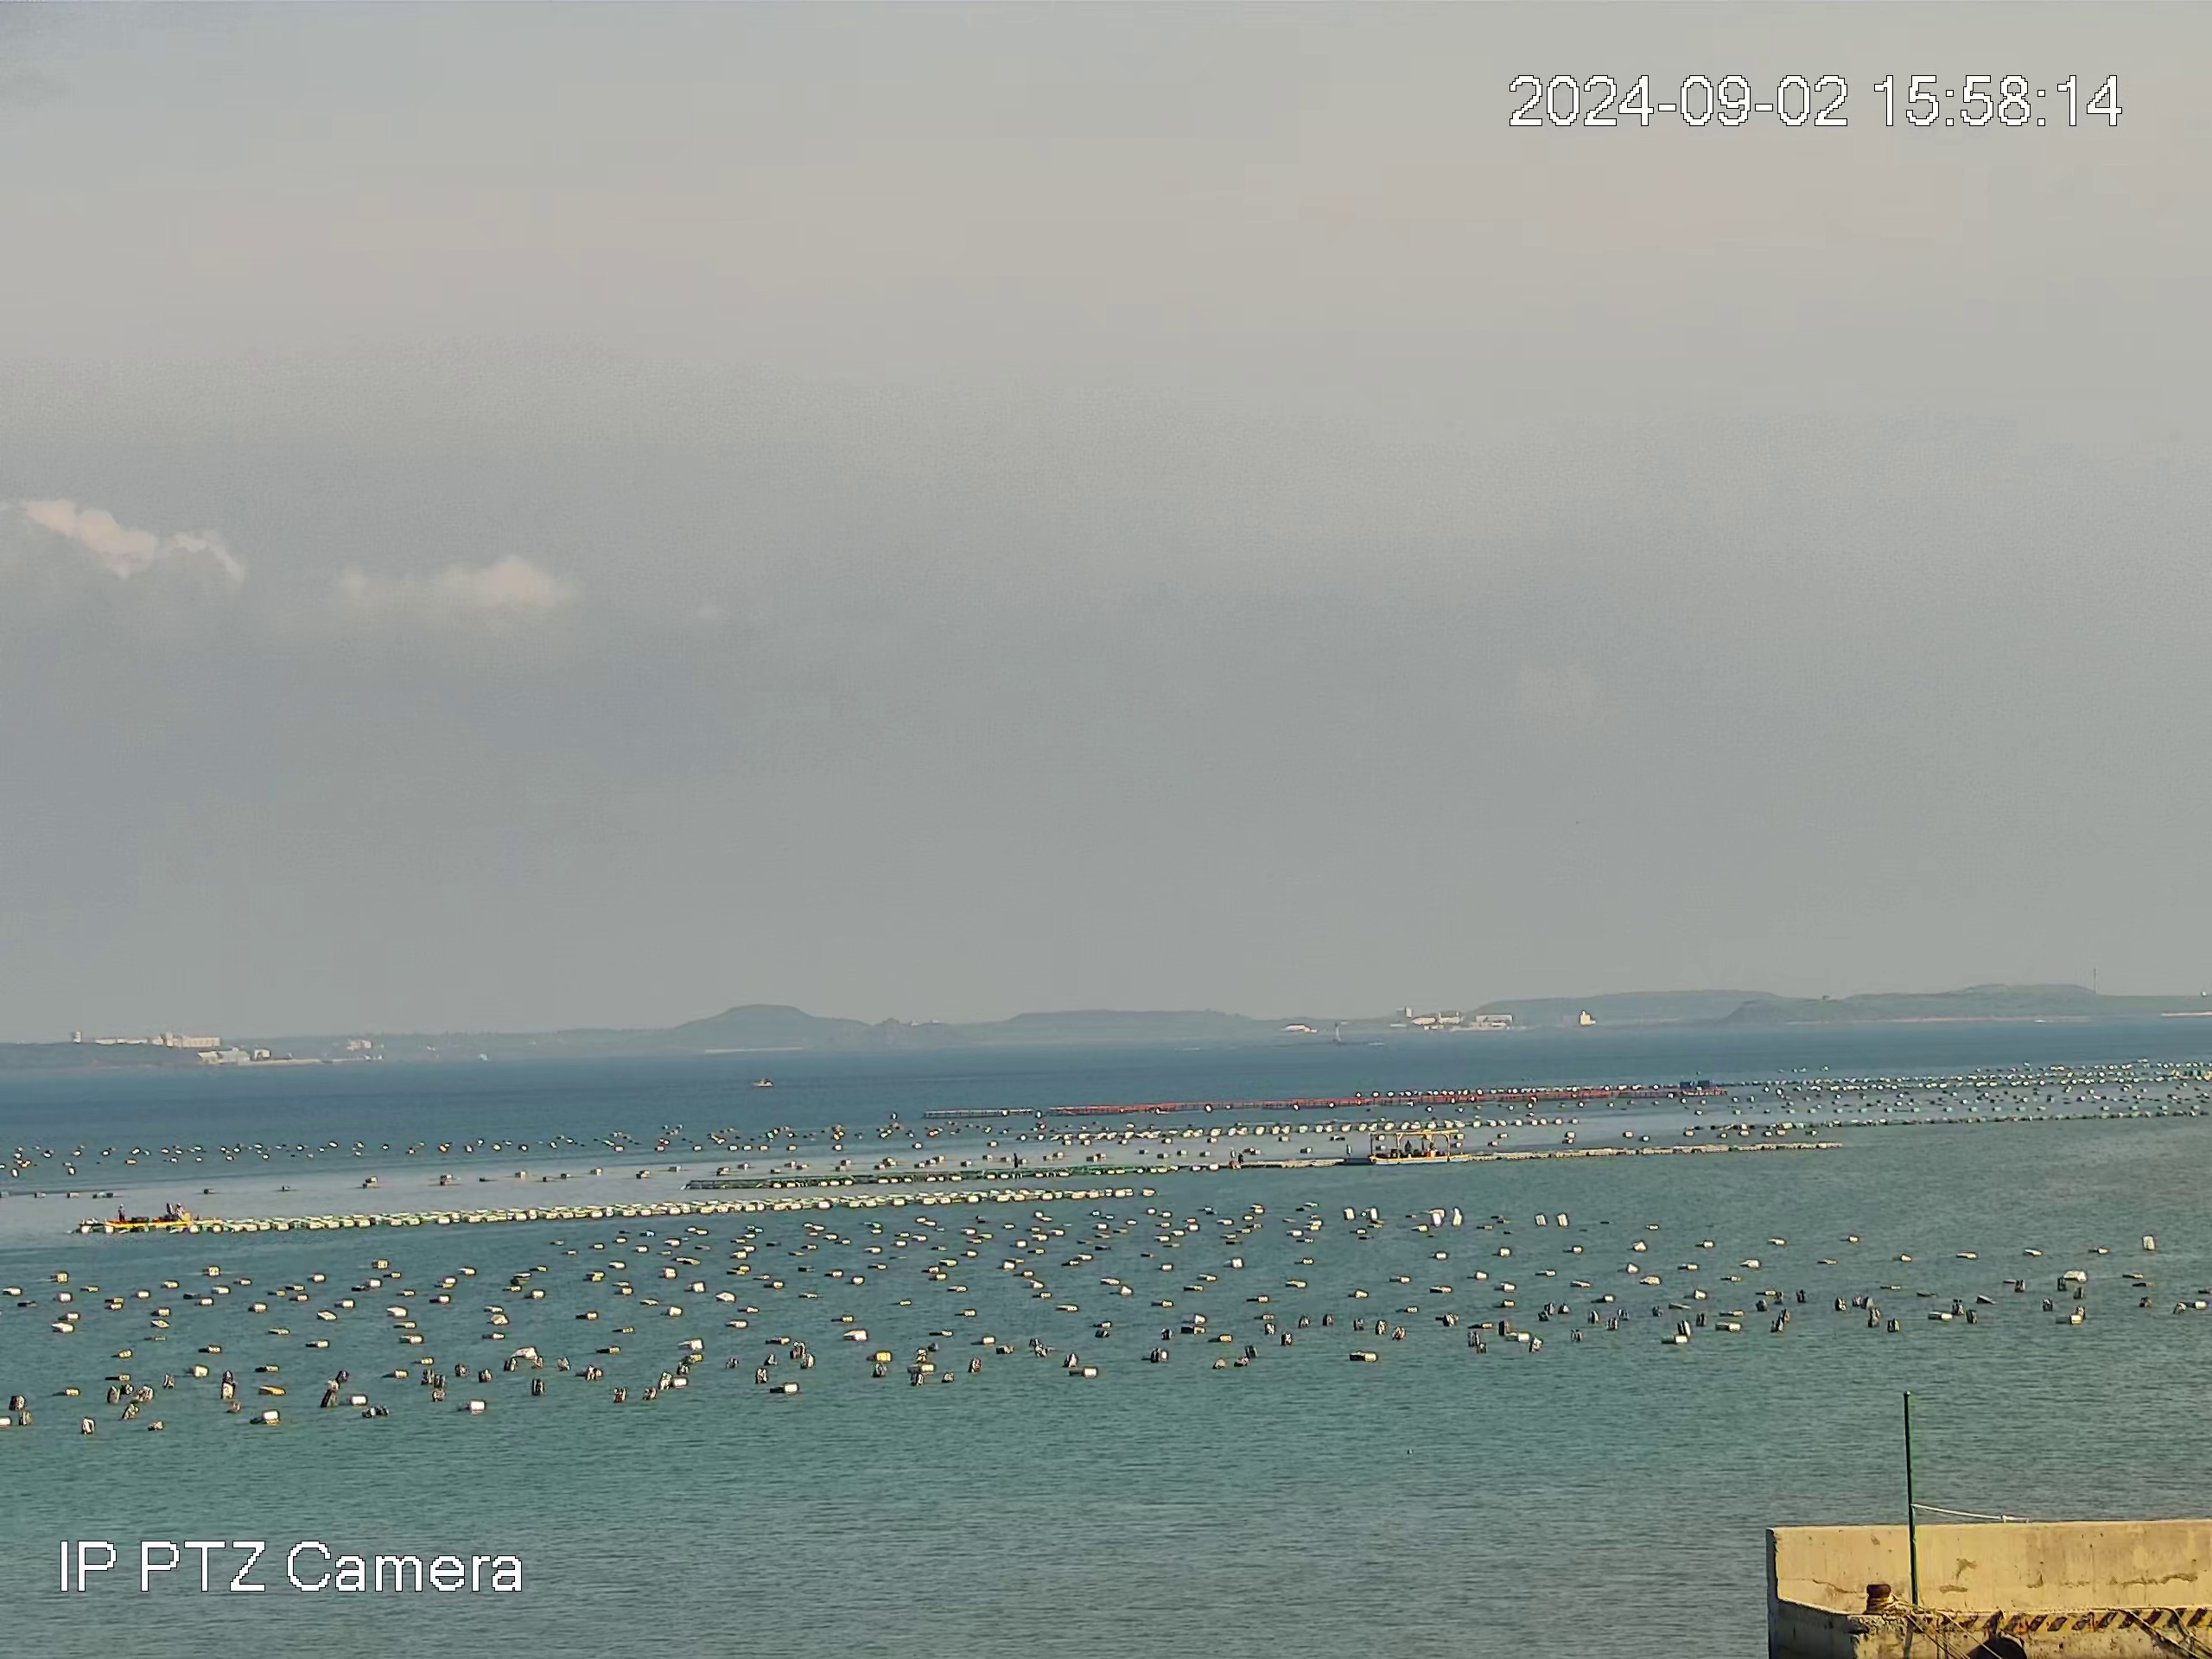boat: (1366, 1127, 1470, 1166), (101, 1201, 225, 1227), (751, 1077, 773, 1089)
